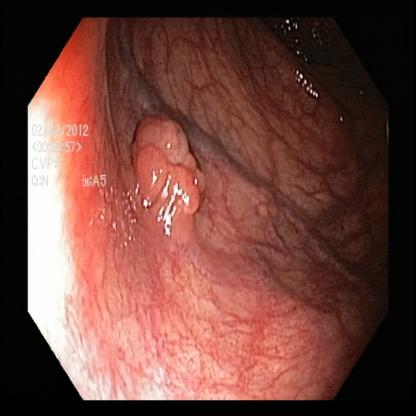Labels: (28, 122, 117, 212)
Polyps: (128, 111, 224, 242)
